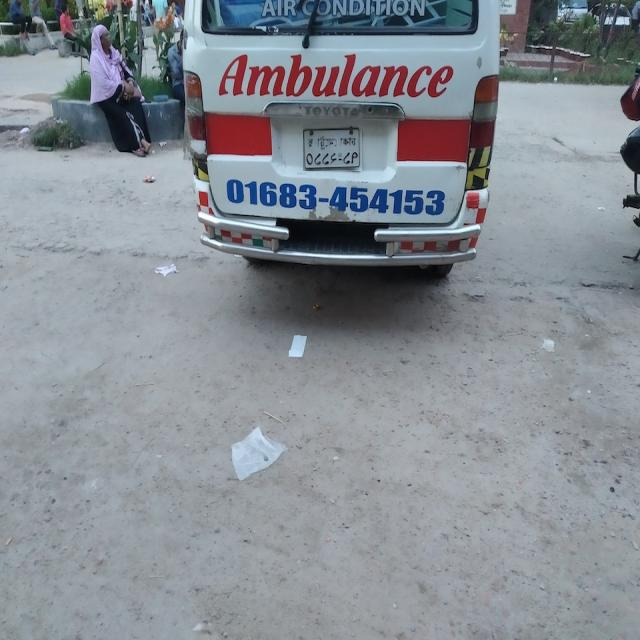numberplate: (303, 125, 362, 171)
